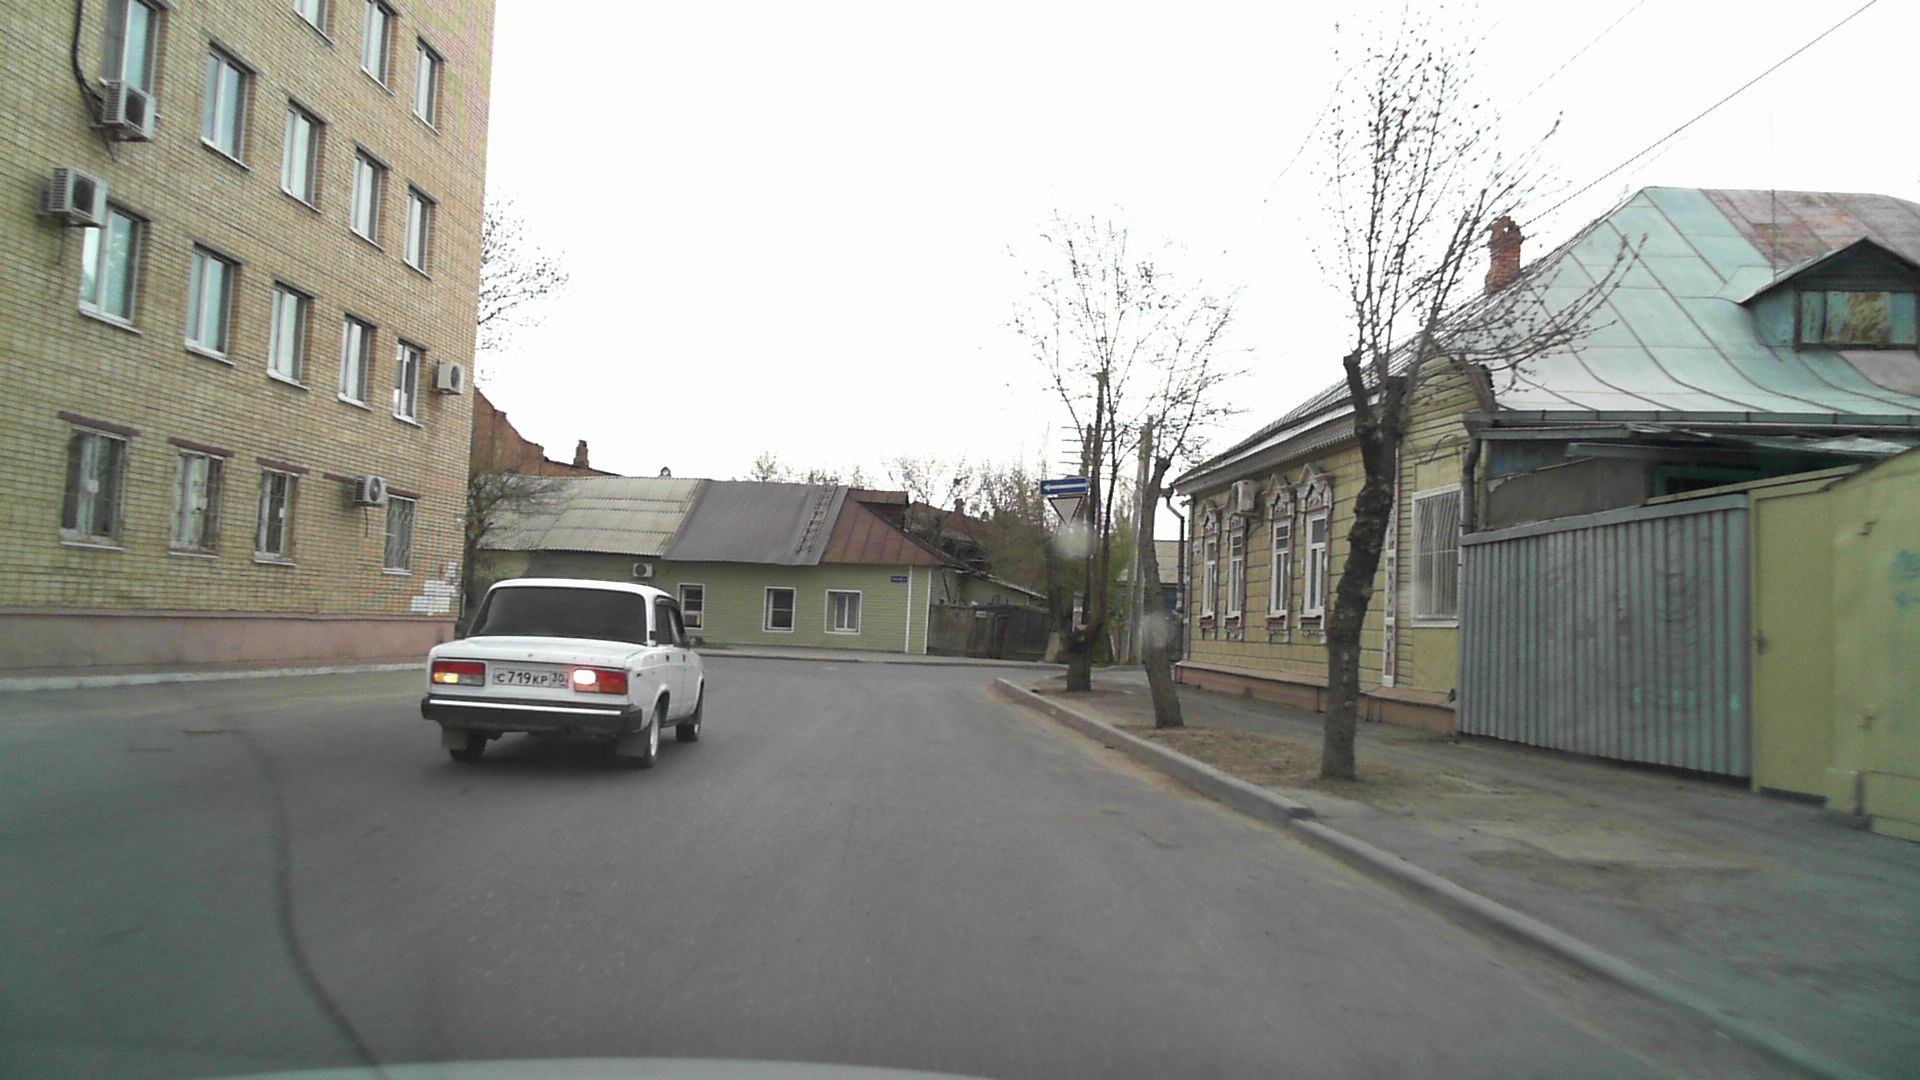One-Way Traffic: (1040, 477, 1088, 495)
